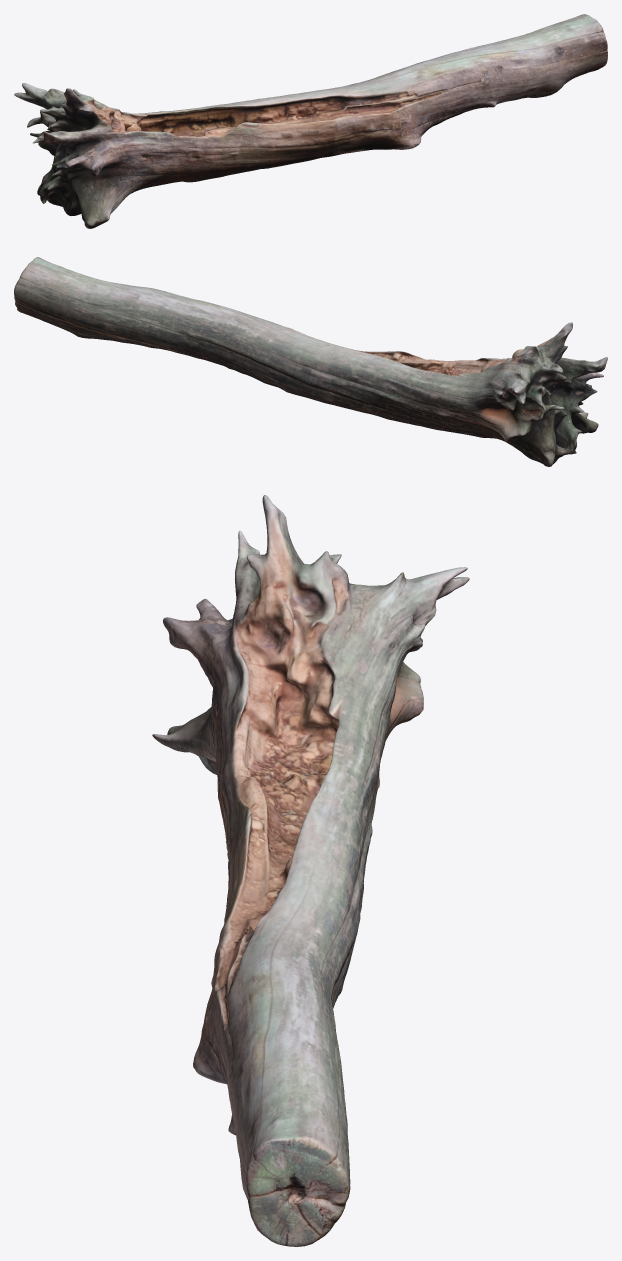
Rendered from tronco.fbx.
3 views of the same model, one above another, from view 1: azimuth 30°, elevation 25°; view 2: azimuth 150°, elevation 25°; view 3: azimuth 270°, elevation 25° (orthographic). The views are drawn at different scales.
Parts seen in each view (by area): view 1: Object_2; view 2: Object_2; view 3: Object_2.
Boxes of the visible parts, x1,y1,x2,y2 form: Object_2: (14, 14, 607, 228); Object_2: (14, 257, 607, 466); Object_2: (152, 495, 469, 1246).
Size of the model in its own units: 2503 by 555 by 605.
Materials: 1 (1 with a texture image).
